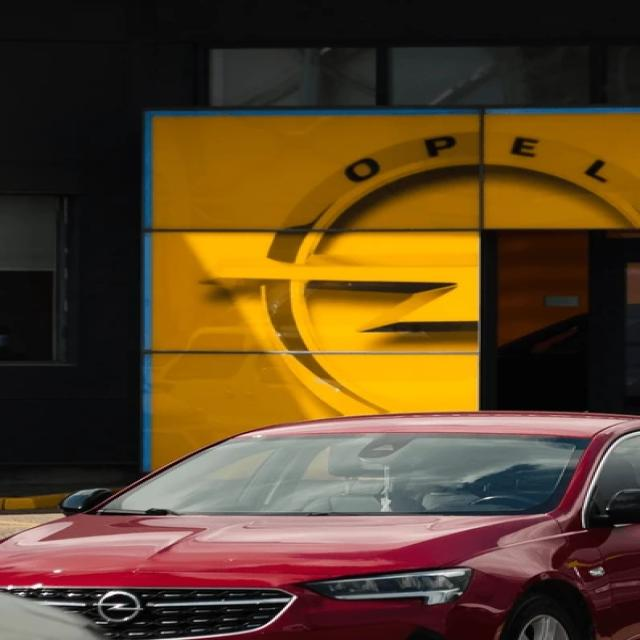opel: (92, 590, 147, 628)
